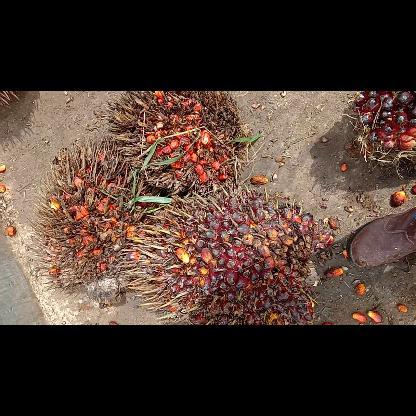TBS masak: (115, 188, 323, 324)
Terlalu masak: (24, 136, 144, 306), (93, 92, 249, 194)
